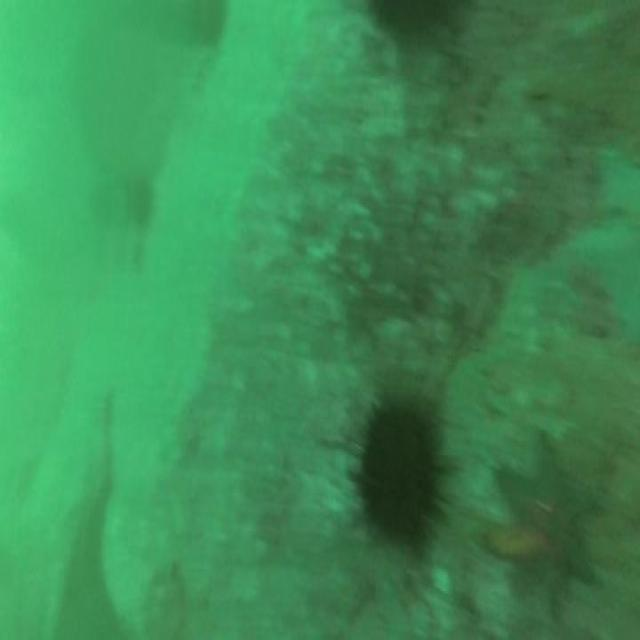echinus: (359, 408, 437, 548), (133, 180, 151, 229)
starfish: (495, 428, 597, 604)
